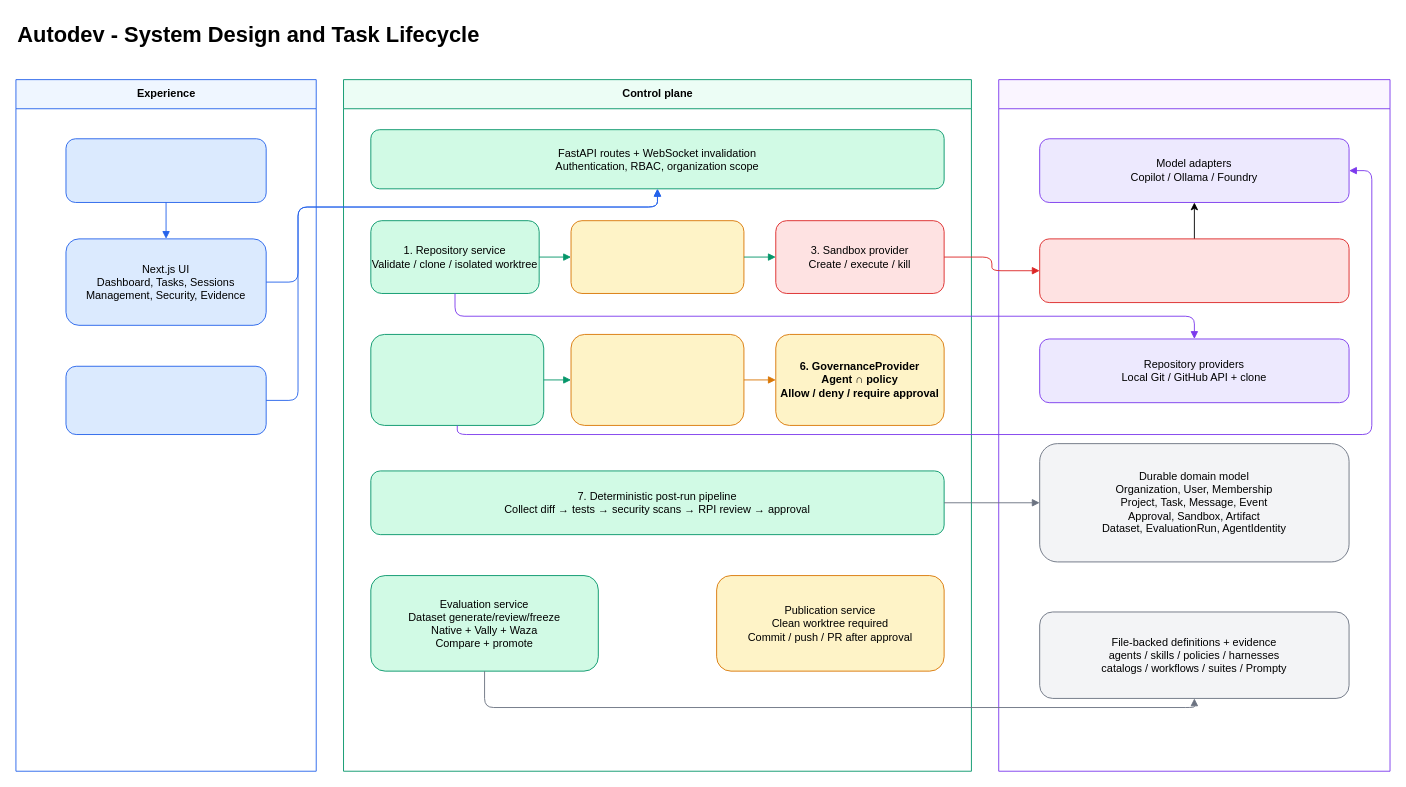
Some shapes in this 1406 by 787 pixel diagram are drawn without their labels. Each missing label, with the box of its shape:
2. Workflow supervisor State-machine transition validation: (570, 220, 744, 293)
4. AgentRuntime Resolve agent + attached skills Create Agent Framework session: (370, 334, 544, 425)
5. ToolRuntime Resolve harness capability Apply invocation budgets: (570, 334, 744, 425)
Execution adapters Docker / Azure dynamic session: (1039, 238, 1349, 303)
Operator Developer / Reviewer / Admin: (65, 138, 266, 202)
Other clients agentctl / REST / MCP: (65, 365, 266, 435)
Runtime + providers: (998, 79, 1390, 771)
